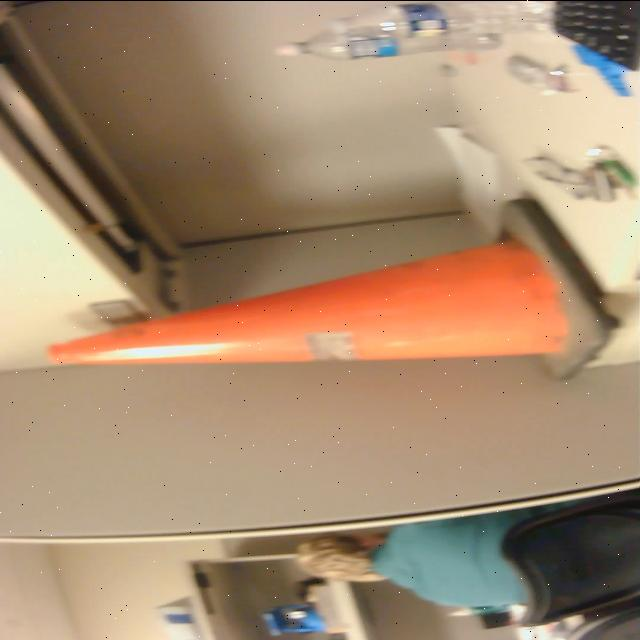traffic cone: (39, 194, 629, 387)
